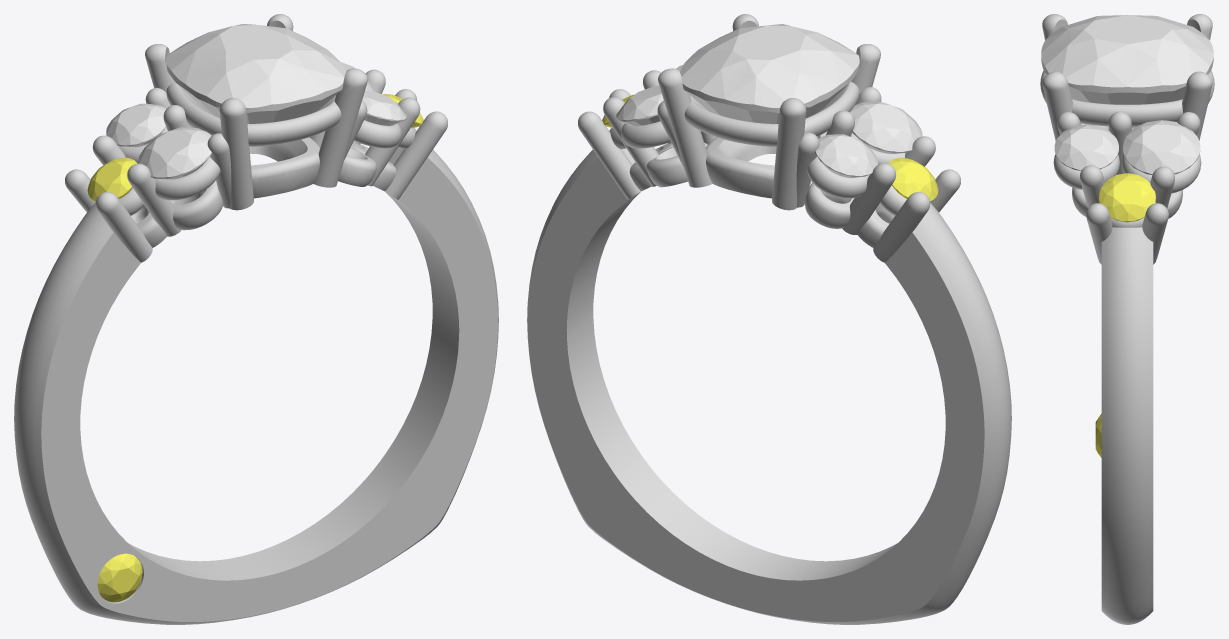
The model's file is Marc_&_Sarah_v4_blender.glb.
The picture shows the model from 3 angles, left to right: view 1: azimuth 30°, elevation 25°; view 2: azimuth 150°, elevation 25°; view 3: azimuth 270°, elevation 25°; orthographic projection. The views are drawn at different scales.
Visible parts, largest first — view 1: v4 PT for 3d model, v4 center dia for 3d model, v4 dia for 3d model.002, v4 dia for 3d model.003, v4 yellow sapphire for 3d model, v4 yellow sapphire for 3d model.002, v4 dia for 3d model.001; view 2: v4 PT for 3d model, v4 center dia for 3d model, v4 dia for 3d model.002, v4 dia for 3d model.003, v4 yellow sapphire for 3d model.002, v4 dia for 3d model; view 3: v4 PT for 3d model, v4 center dia for 3d model, v4 dia for 3d model, v4 dia for 3d model.001, v4 yellow sapphire for 3d model.001.
Part boxes in pixels (<box>): v4 PT for 3d model: <box>14,14,498,624</box>; v4 center dia for 3d model: <box>166,24,345,123</box>; v4 dia for 3d model.002: <box>138,127,211,179</box>; v4 dia for 3d model.003: <box>106,103,165,147</box>; v4 yellow sapphire for 3d model: <box>97,553,142,602</box>; v4 yellow sapphire for 3d model.002: <box>87,157,136,201</box>; v4 dia for 3d model.001: <box>362,90,406,125</box>; v4 PT for 3d model: <box>527,14,1011,624</box>; v4 center dia for 3d model: <box>680,24,859,123</box>; v4 dia for 3d model.002: <box>850,101,922,153</box>; v4 dia for 3d model.003: <box>815,134,877,177</box>; v4 yellow sapphire for 3d model.002: <box>888,157,938,201</box>; v4 dia for 3d model: <box>616,85,663,125</box>; v4 PT for 3d model: <box>1040,14,1214,624</box>; v4 center dia for 3d model: <box>1041,15,1213,127</box>; v4 dia for 3d model: <box>1123,120,1200,174</box>; v4 dia for 3d model.001: <box>1054,124,1118,170</box>; v4 yellow sapphire for 3d model.001: <box>1099,173,1155,222</box>.
Size of the model in its own units: 20.7 by 23.67 by 6.75.
